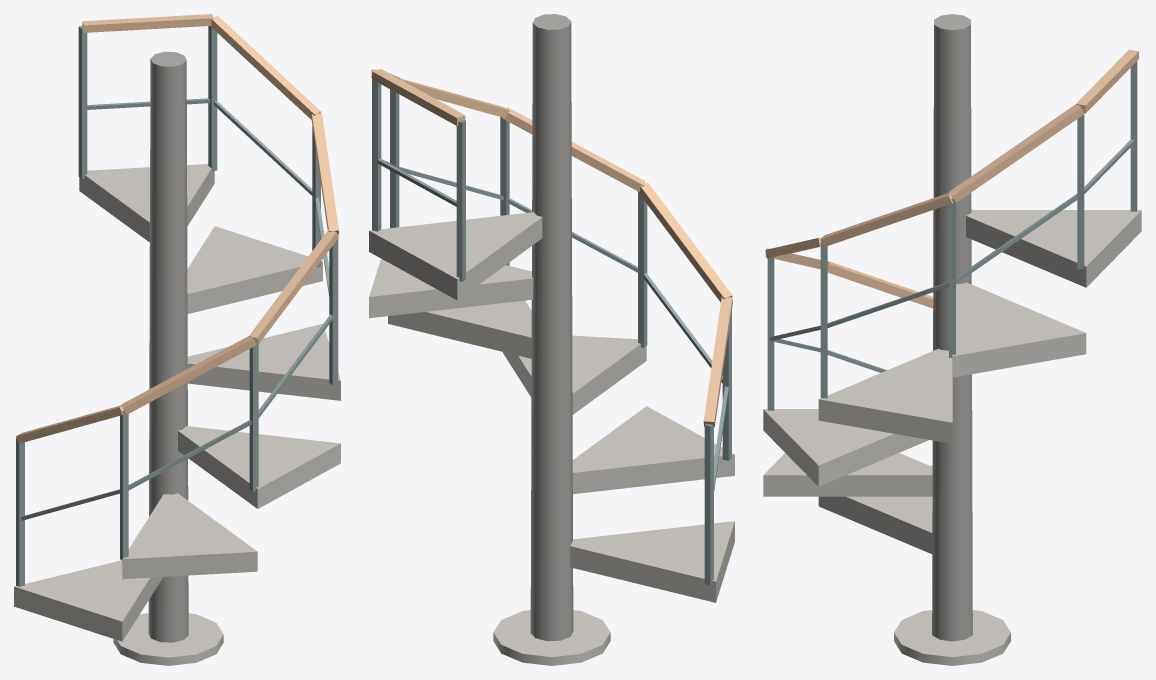
The model's file is stairSpiralStone.glb.
3 views of the same model, side by side, from view 1: azimuth 30°, elevation 25°; view 2: azimuth 150°, elevation 25°; view 3: azimuth 270°, elevation 25° (orthographic). The views are drawn at different scales.
Visible parts, largest first — view 1: stairSpiralStone; view 2: stairSpiralStone; view 3: stairSpiralStone.
Boxes of the visible parts, <box> form: stairSpiralStone: <box>14,14,340,665</box>; stairSpiralStone: <box>369,14,734,665</box>; stairSpiralStone: <box>763,14,1141,665</box>.
Size of the model in its own units: 0.97 by 1.75 by 0.97.
